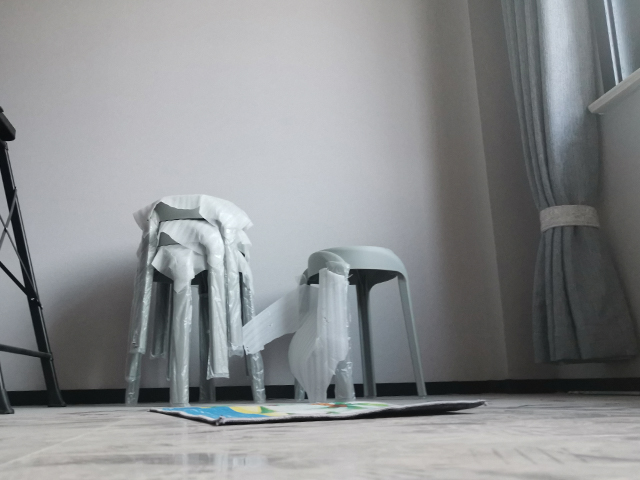carpet: (146, 397, 488, 428)
curtain: (498, 1, 640, 368)
stool: (121, 193, 270, 410), (287, 243, 430, 401)
